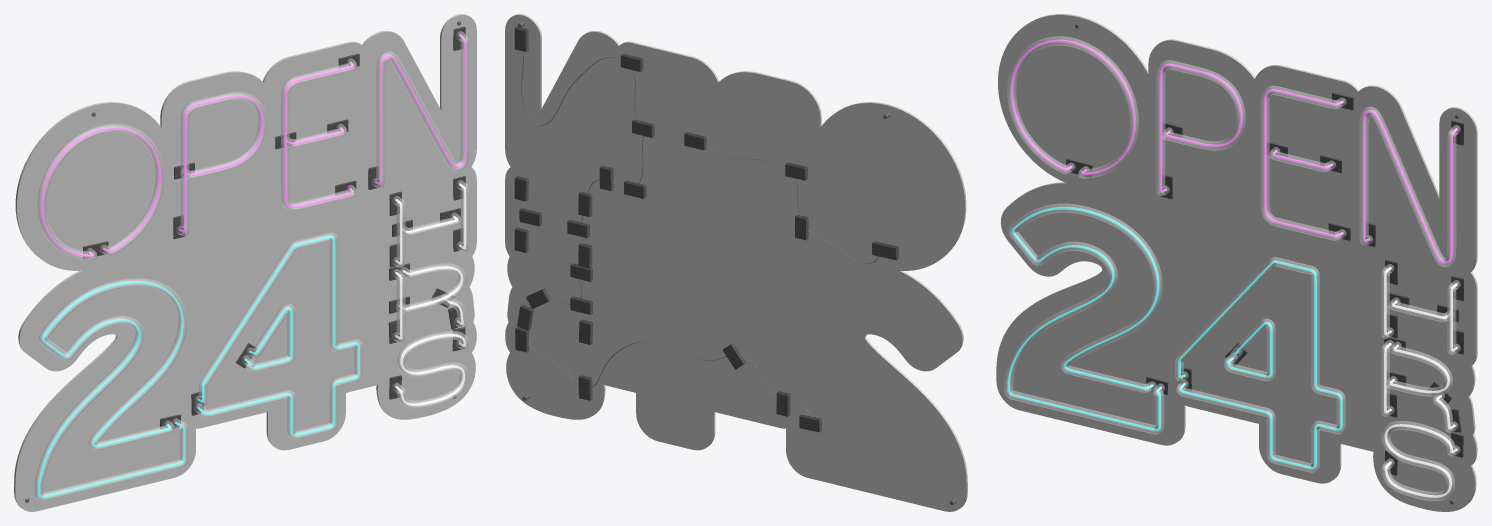
The model's file is neon_open.glb.
3 views of the same model, side by side, from view 1: azimuth 30°, elevation 25°; view 2: azimuth 150°, elevation 25°; view 3: azimuth 330°, elevation 25° (orthographic). The views are drawn at different scales.
Visible parts, largest first — view 1: Acrylic, Glass, Emissive, Cubes; view 2: Acrylic, Cubes, Cable; view 3: Acrylic, Glass, Emissive, Cubes.
Part boxes in pixels (x1,y1,x2,y2): Acrylic: (14, 14, 476, 511); Glass: (34, 31, 469, 501); Emissive: (37, 34, 466, 497); Cubes: (83, 26, 465, 429); Acrylic: (505, 14, 967, 511); Cubes: (514, 26, 898, 432); Cable: (521, 51, 878, 417); Acrylic: (996, 14, 1477, 511); Glass: (1004, 36, 1460, 500); Emissive: (1007, 39, 1457, 497); Cubes: (1066, 92, 1463, 475).
Bounding box in the file's own units: 0.5382 × 0.44 × 0.0262.
